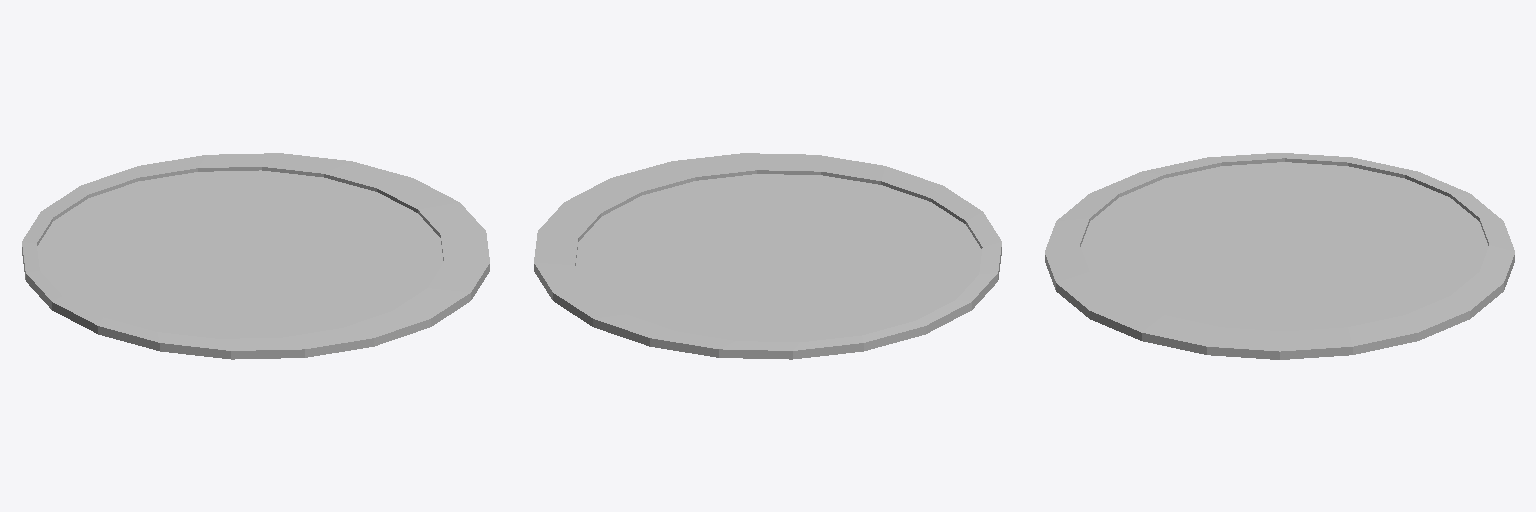
Rendered from Plate.obj.
3 views of the same model, side by side, from view 1: azimuth 30°, elevation 25°; view 2: azimuth 150°, elevation 25°; view 3: azimuth 270°, elevation 25° (orthographic).
Parts seen in each view (by area): view 1: Plate; view 2: Plate; view 3: Plate.
Part boxes in pixels (x1,y1,x2,y2): Plate: (22,153,489,359); Plate: (534,153,1001,359); Plate: (1045,153,1514,359).
Bounding box in the file's own units: 1 × 0.0217 × 1.